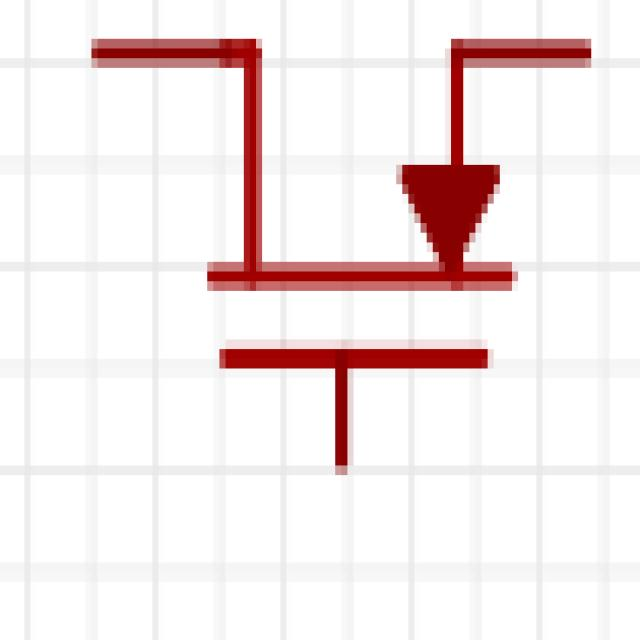pmos: (85, 15, 614, 538)
